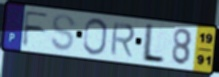8: (171, 26, 193, 67)
F: (21, 10, 52, 48)
L: (140, 22, 167, 65)
O: (82, 17, 109, 57)
R: (109, 22, 137, 59)
S: (49, 13, 77, 53)
